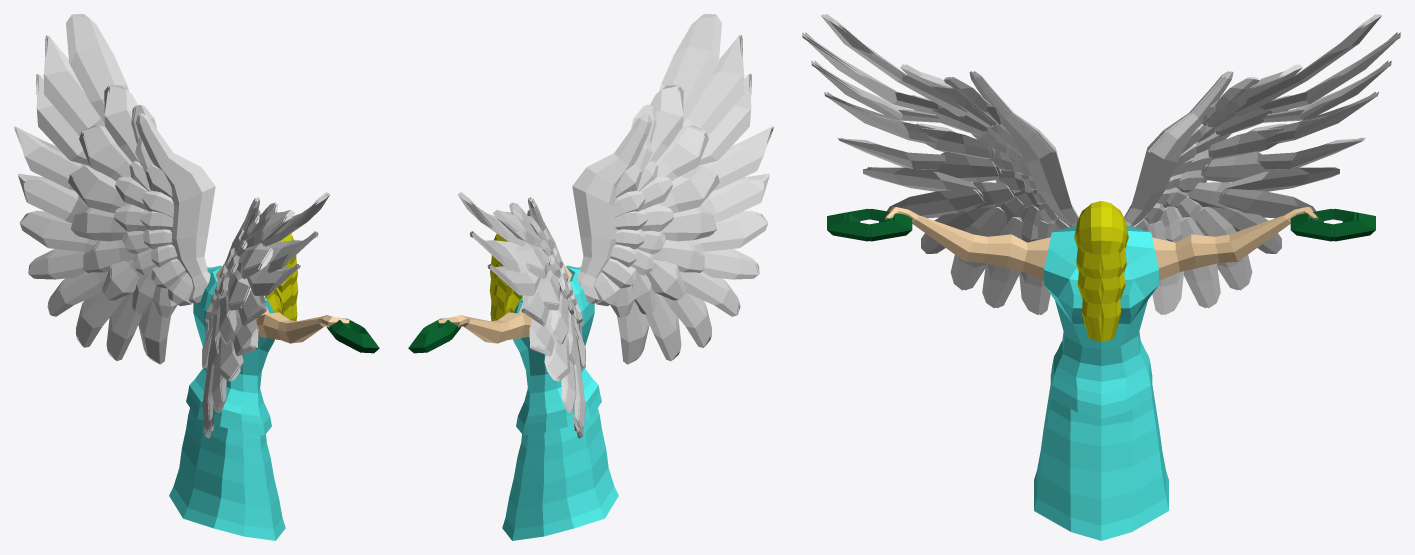
The model's file is PrincipadoDef 1.fbx.
The picture shows the model from 3 angles, left to right: view 1: azimuth 30°, elevation 25°; view 2: azimuth 150°, elevation 25°; view 3: azimuth 270°, elevation 25°; orthographic projection. The views are drawn at different scales.
Parts seen in each view (by area): view 1: PrincipadoaRRIBA; view 2: PrincipadoaRRIBA; view 3: PrincipadoaRRIBA.
Boxes of the visible parts, <box> form: PrincipadoaRRIBA: <box>14,14,379,540</box>; PrincipadoaRRIBA: <box>408,14,773,540</box>; PrincipadoaRRIBA: <box>802,14,1400,540</box>.
Bounding box in the file's own units: 261 × 632 × 712.
